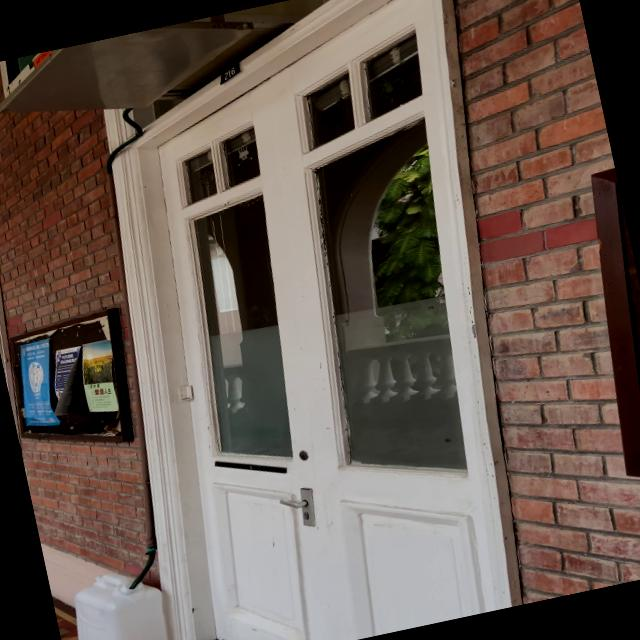room216: (215, 61, 244, 84)
